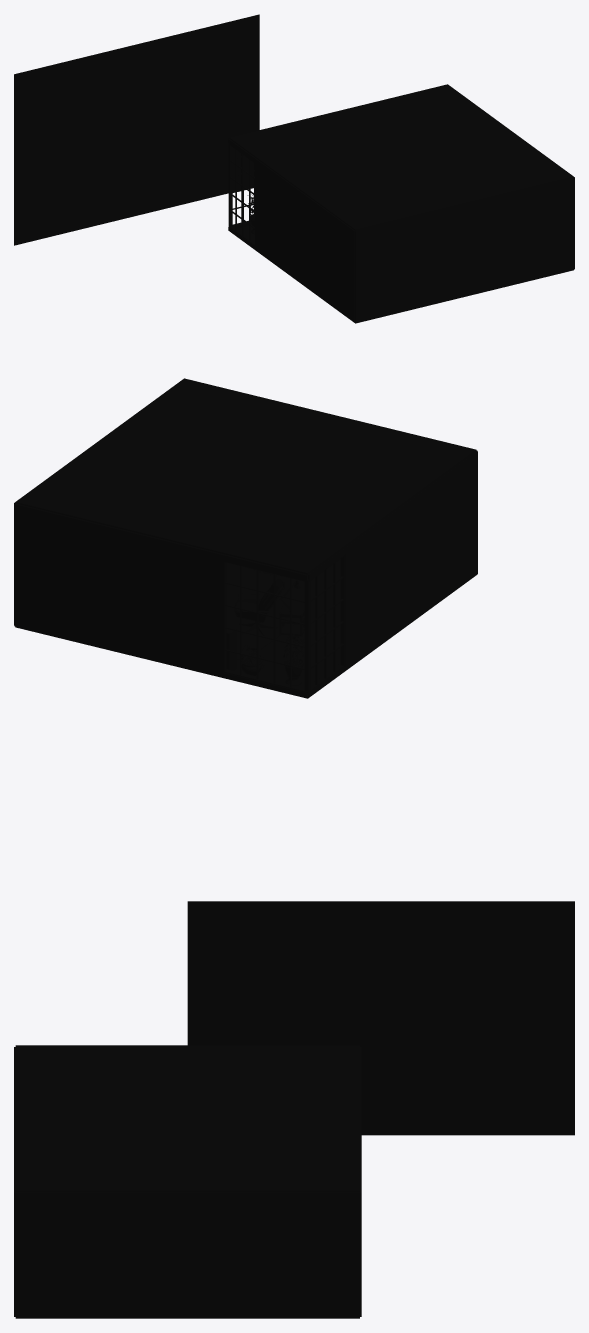
File: room.glb
The picture shows the model from 3 angles, top to bottom: view 1: azimuth 30°, elevation 25°; view 2: azimuth 150°, elevation 25°; view 3: azimuth 270°, elevation 25°; orthographic projection. The views are drawn at different scales.
Parts seen in each view (by area): view 1: room_shell, window_view, room_props; view 2: room_shell, room_props; view 3: room_shell, window_view.
Part boxes in pixels (left/top/right/bottom): room_shell: left=228, top=84, right=574, bottom=323; window_view: left=14, top=14, right=259, bottom=245; room_props: left=228, top=144, right=254, bottom=245; room_shell: left=14, top=378, right=477, bottom=698; room_props: left=223, top=555, right=344, bottom=693; room_shell: left=14, top=1045, right=361, bottom=1318; window_view: left=187, top=901, right=574, bottom=1135.
Size of the model in its own units: 13.04 by 6 by 13.04.
3 materials, 3 textured.
